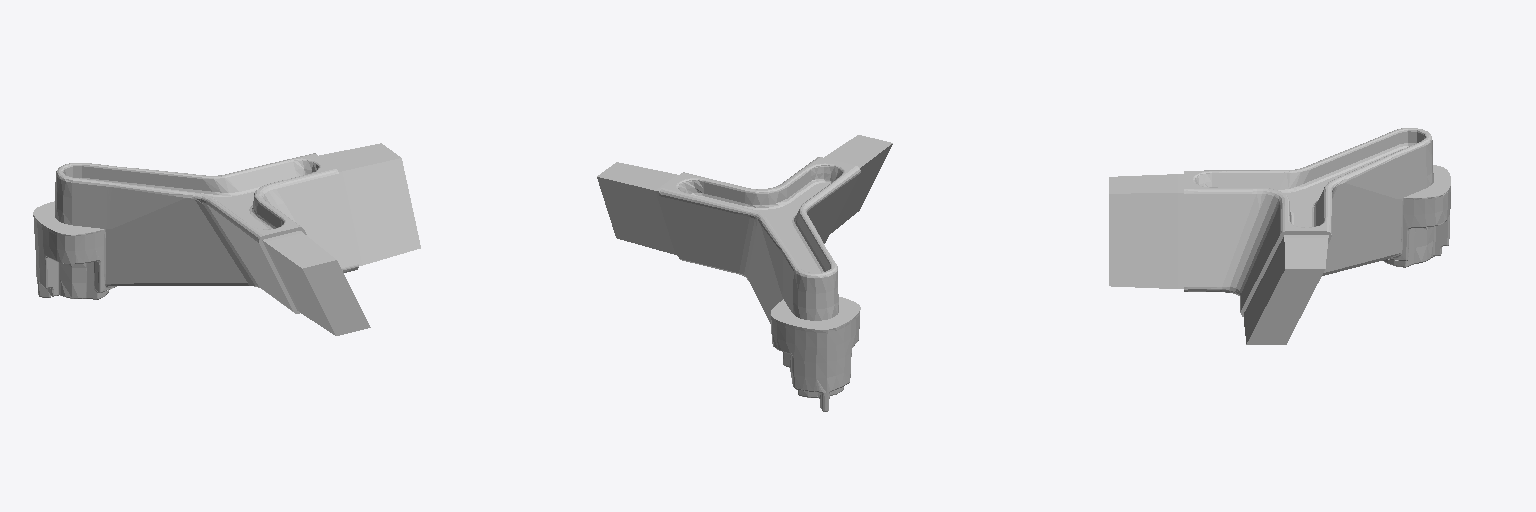
Rendered from r13ssss.obj.
3 views of the same model, side by side, from view 1: azimuth 30°, elevation 25°; view 2: azimuth 150°, elevation 25°; view 3: azimuth 270°, elevation 25° (orthographic).
Visible parts, largest first — view 1: 1; view 2: 1; view 3: 1.
Boxes of the visible parts, <box> form: 1: <box>33,143,420,335</box>; 1: <box>597,135,892,411</box>; 1: <box>1109,128,1450,344</box>.
Bounding box in the file's own units: 168 × 70.32 × 168.